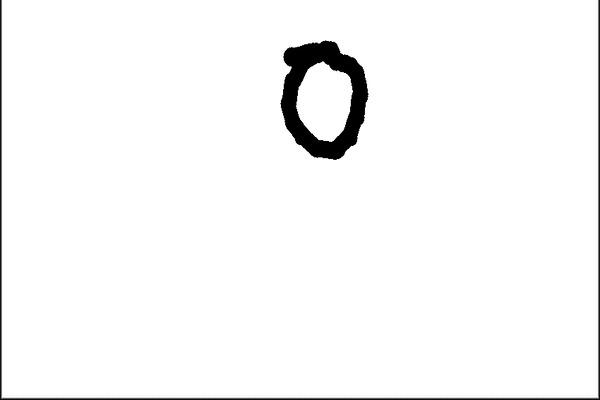O: (256, 28, 383, 165)
